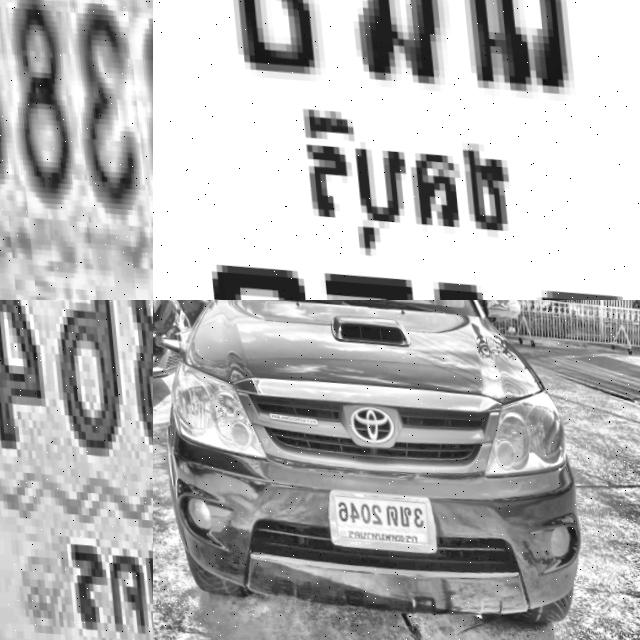license-plate: (153, 0, 640, 300), (0, 300, 153, 640), (0, 0, 153, 300), (318, 479, 430, 550)
